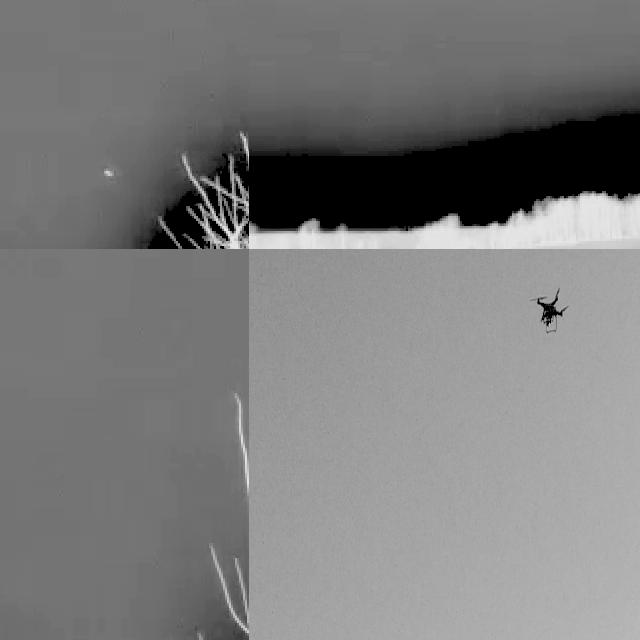0: (94, 161, 120, 193)
drone: (531, 285, 572, 335)
